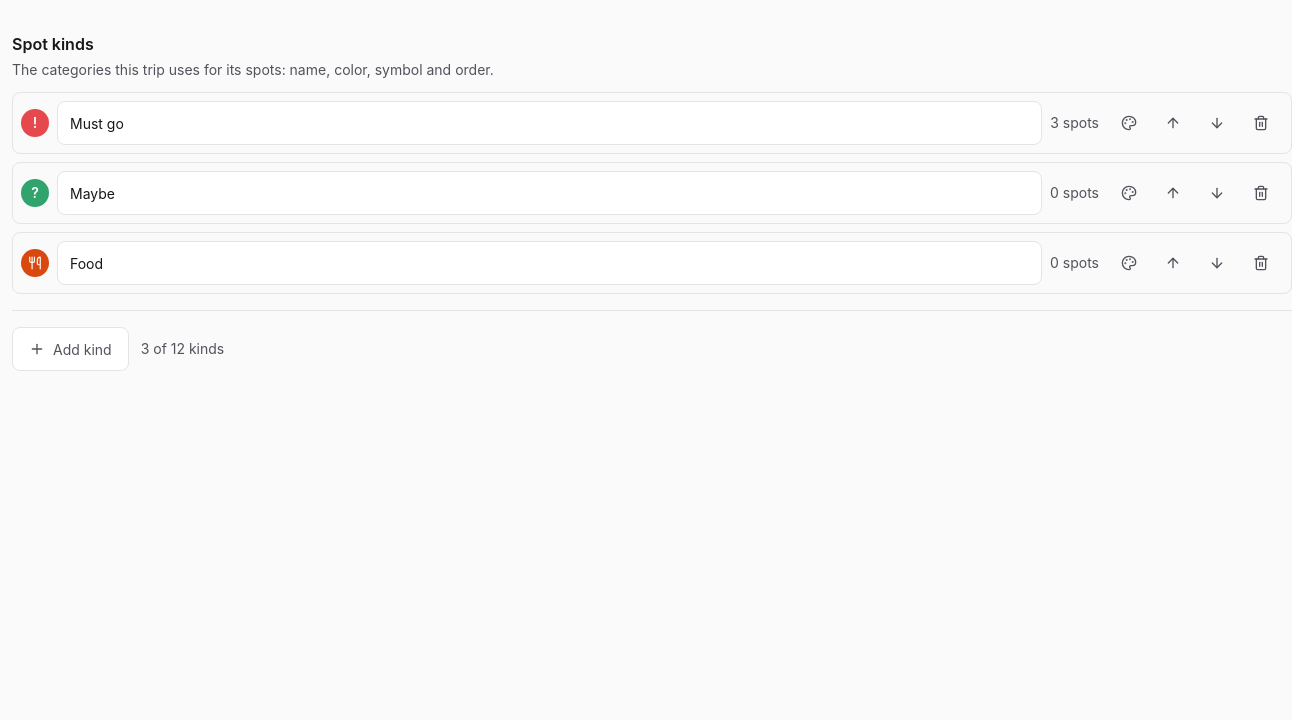
spot kinds section › shows the API error for a rejected color
The width and height of the screenshot is (1292, 720).
Click the button named "Color and symbol of Food" at {"x": 1129, "y": 263}, box [1107,241,1151,285]
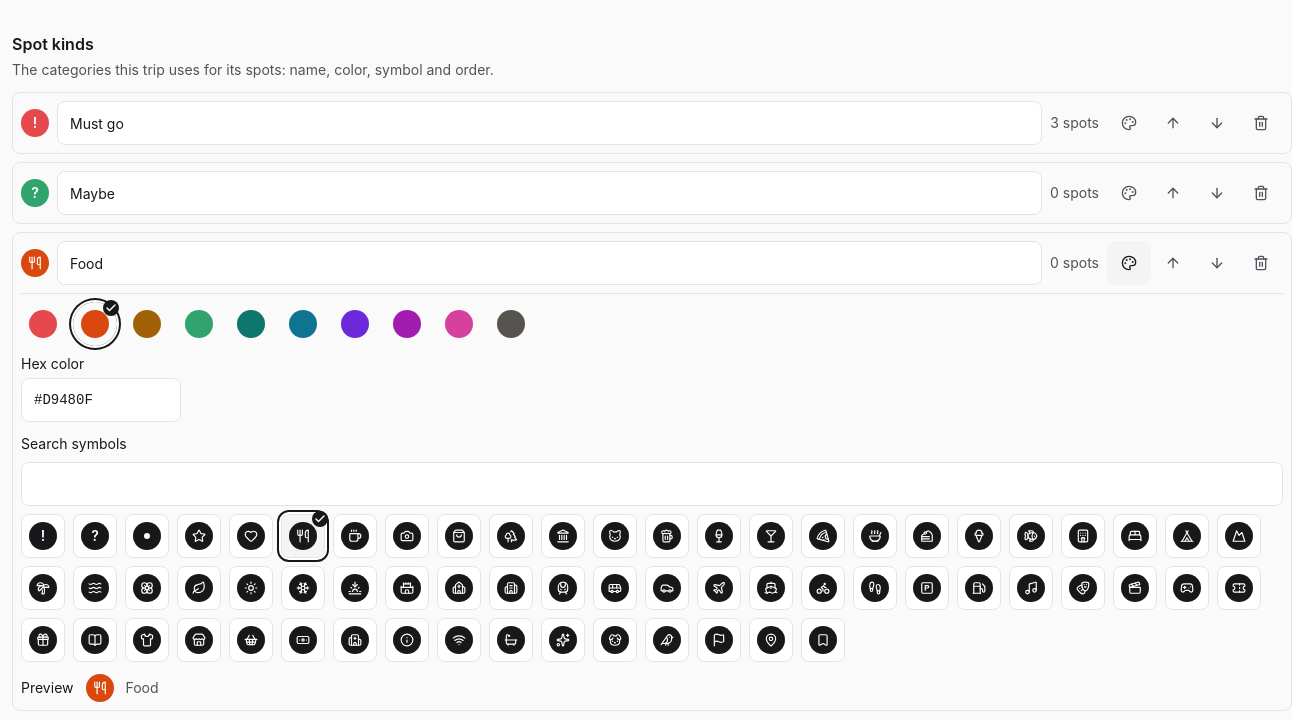
Replace the text in the field labelled "Hex color" with "#FFE066" at {"x": 101, "y": 400}, box [21,378,181,422]
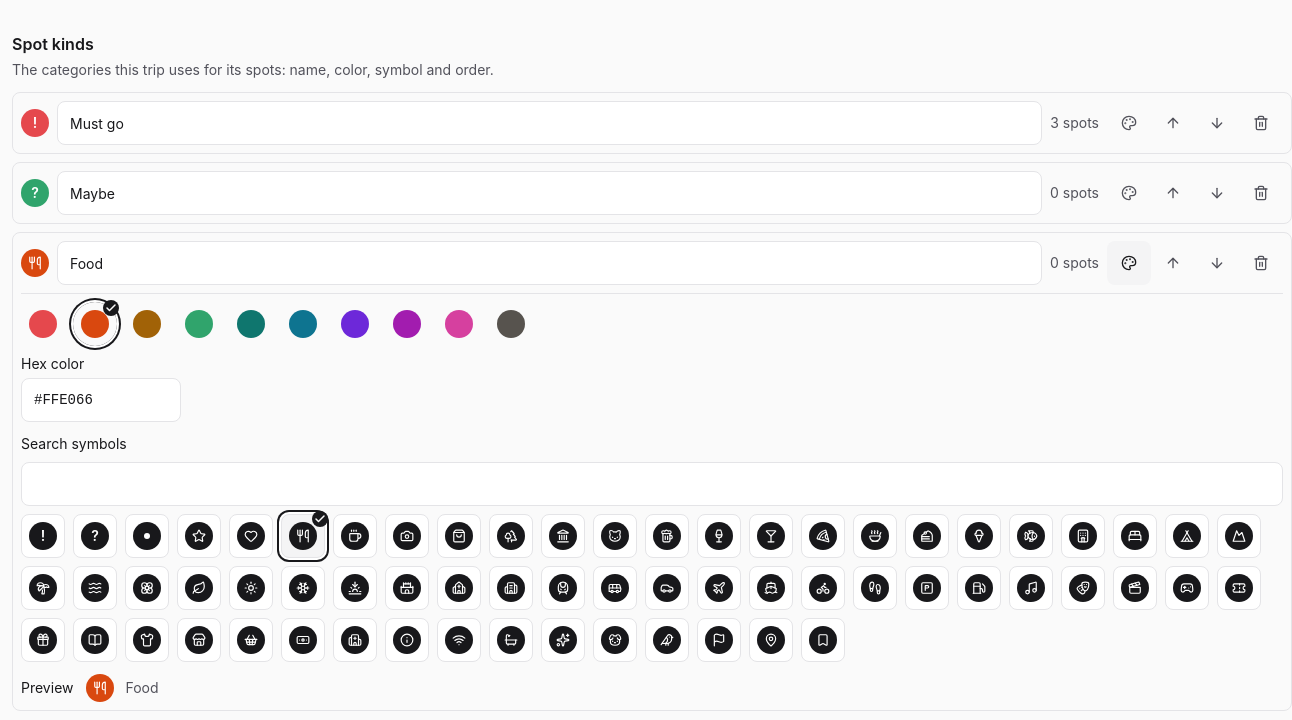
Leave the field labelled "Hex color", box [21,378,181,422]
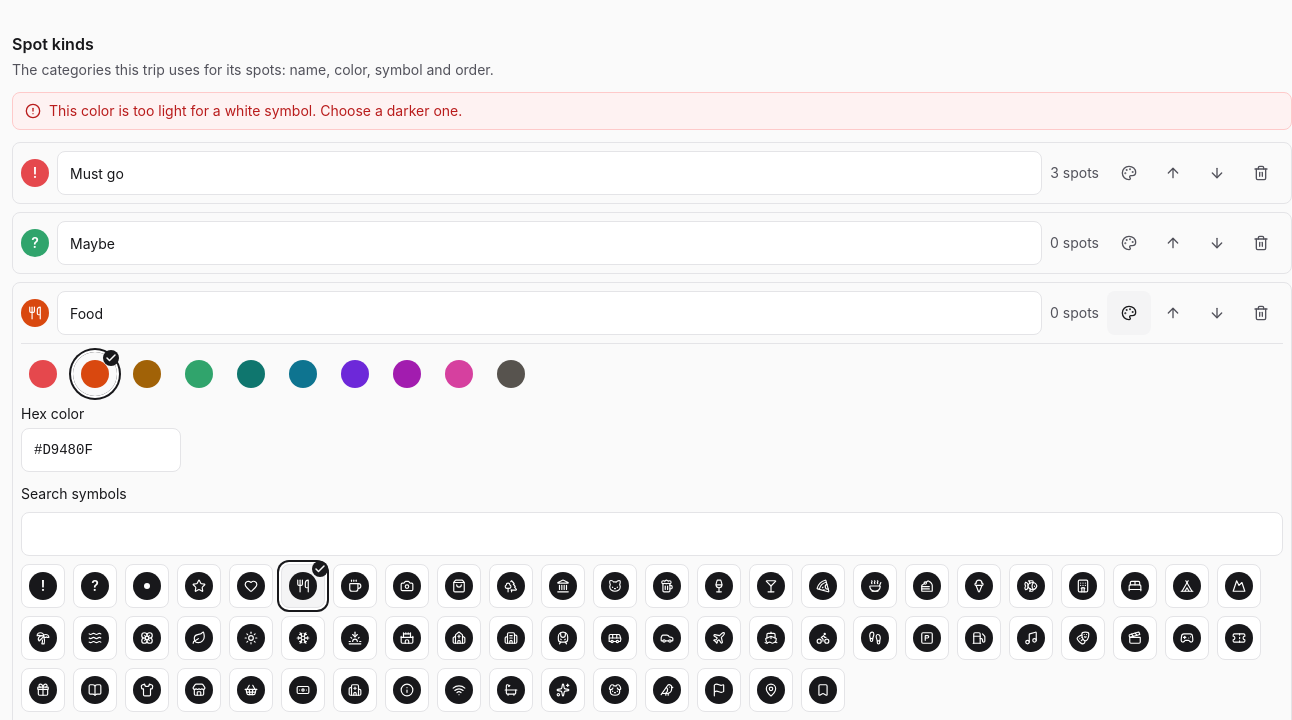
Expected: the message with test id "kinds-error" shows "too light", [49,102,462,119]
